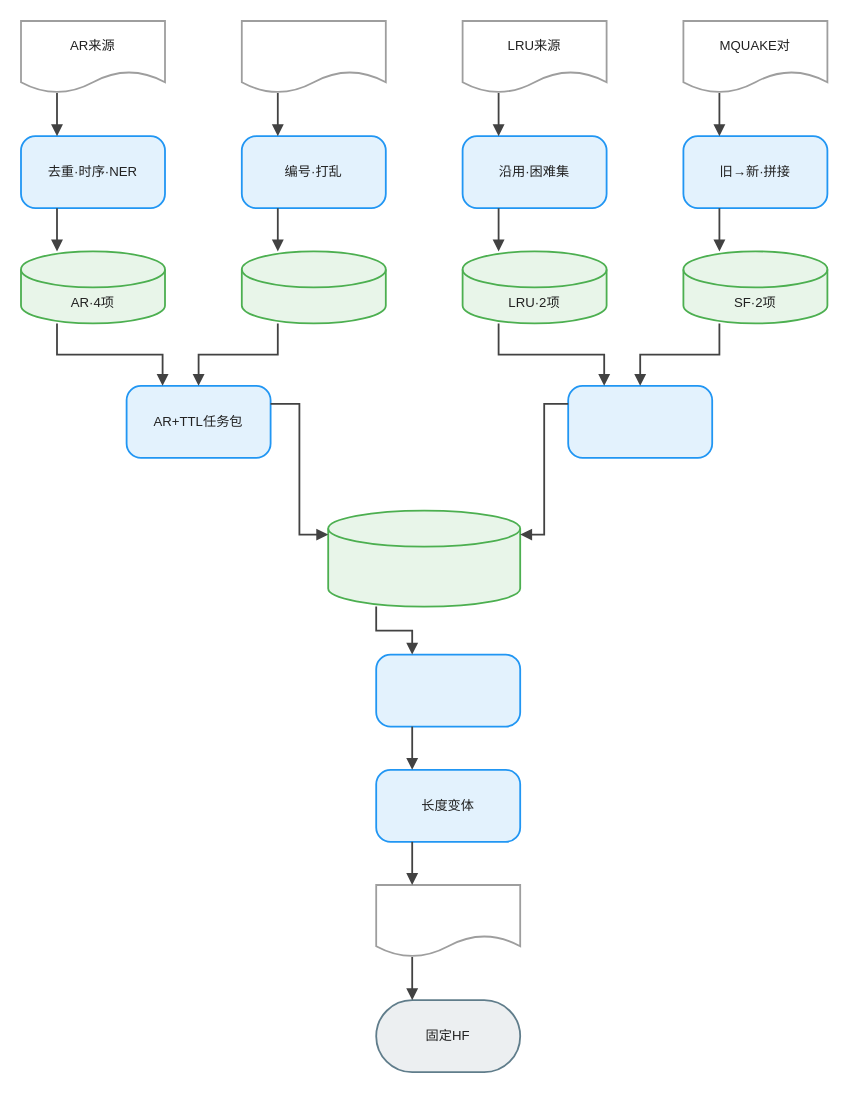
The diagram is 850 pixels wide and 1094 high, and some of its shapes have lost their labels. Here are the shapes that lost their labels. From the top down, the box of each, then its label:
(240, 20, 386, 93): TTL来源
(240, 250, 386, 324): TTL·6项
(567, 384, 713, 458): LRU+SF任务包
(327, 509, 521, 607): 主集·130/2,071
(375, 653, 521, 727): 上下文→多题
(375, 884, 521, 957): 146行/3,671题
